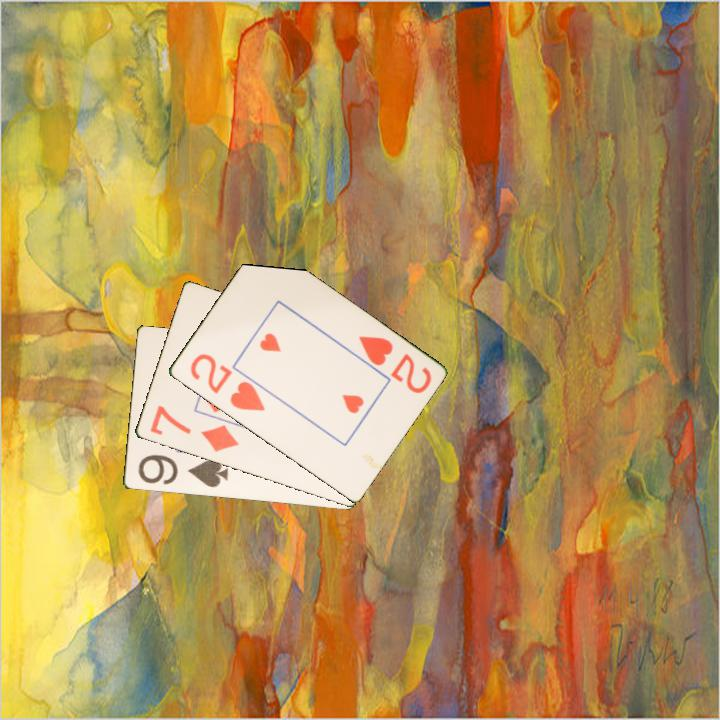2h: (186, 350, 268, 414), (355, 332, 434, 397)
7d: (146, 402, 241, 455)
9s: (134, 451, 231, 491)
